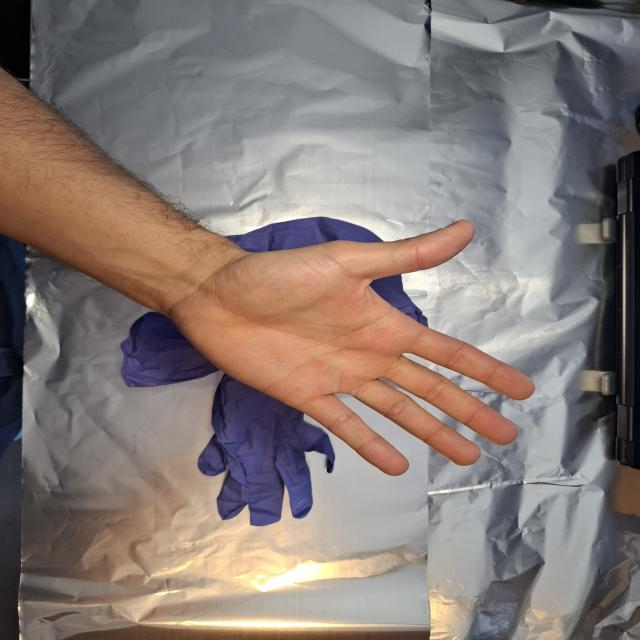glove_off: (162, 217, 538, 478)
